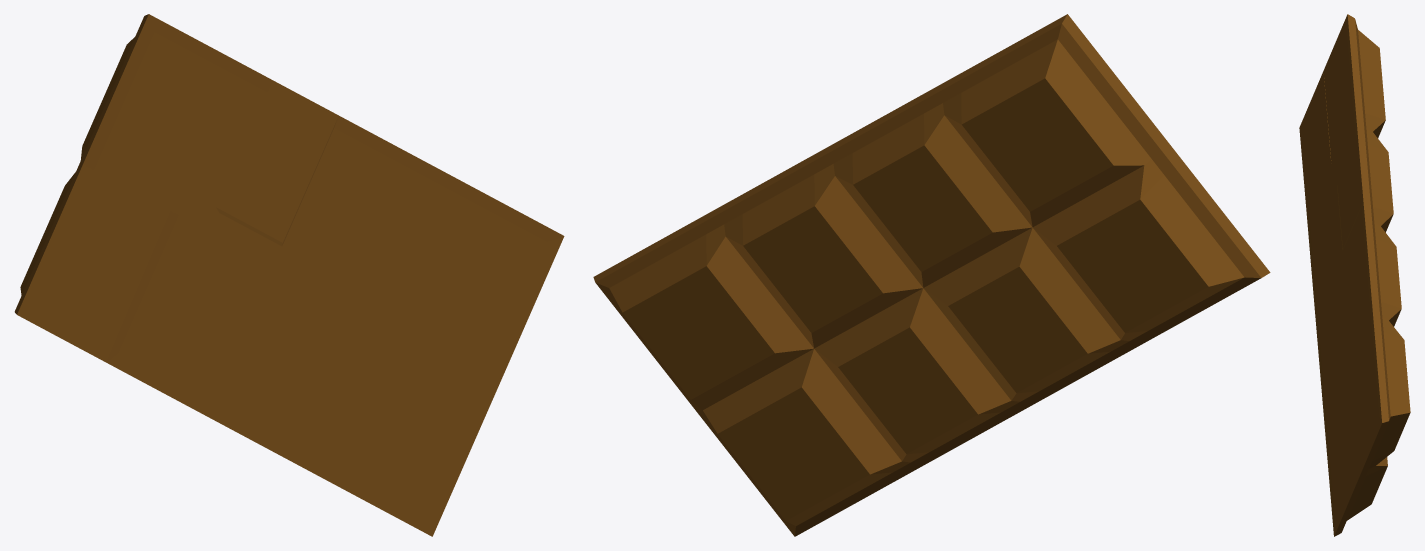
The model's file is chocolat_bar.glb.
The picture shows the model from 3 angles, left to right: view 1: azimuth 30°, elevation 25°; view 2: azimuth 150°, elevation 25°; view 3: azimuth 270°, elevation 25°; orthographic projection. The views are drawn at different scales.
Parts seen in each view (by area): view 1: Chocolat bar_0; view 2: Chocolat bar_0; view 3: Chocolat bar_0.
Boxes of the visible parts, box(x1,y1,x2,y2) form: Chocolat bar_0: box(14, 14, 564, 536); Chocolat bar_0: box(593, 14, 1270, 536); Chocolat bar_0: box(1299, 14, 1410, 536).
Bounding box in the file's own units: 5.53 × 5.1 × 1.21.
